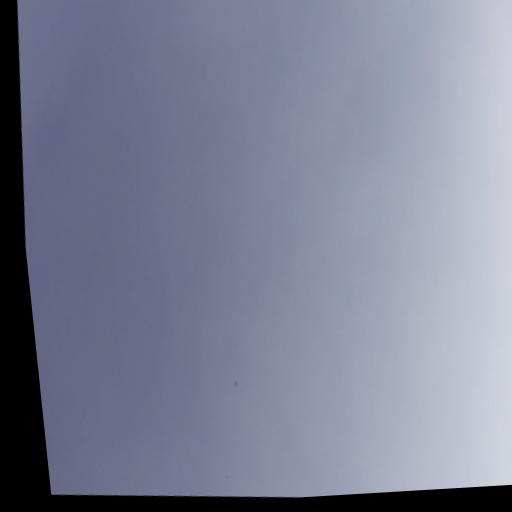drones: (233, 380, 239, 388)
